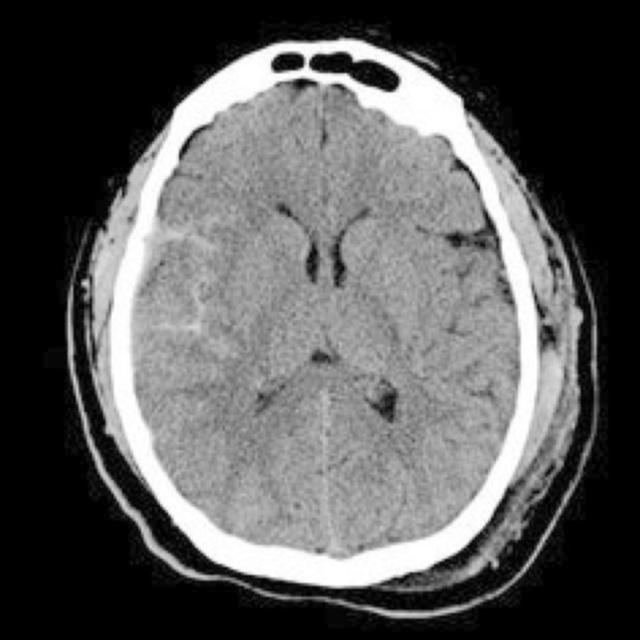glioma tumor: (182, 103, 469, 542)
